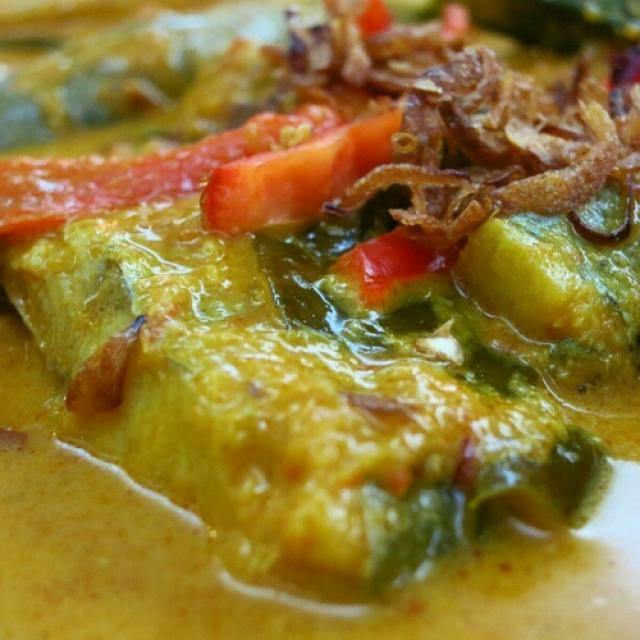熟制海鲜: (4, 11, 605, 624)
